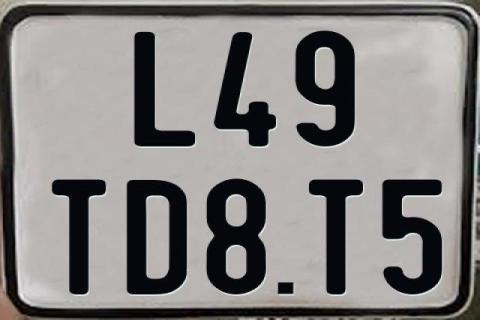0: (203, 176, 269, 297), (213, 30, 276, 148), (296, 30, 359, 146), (381, 178, 442, 294)
D: (127, 180, 191, 294)
L: (133, 31, 195, 148)
T: (308, 178, 368, 298), (51, 178, 109, 298)
